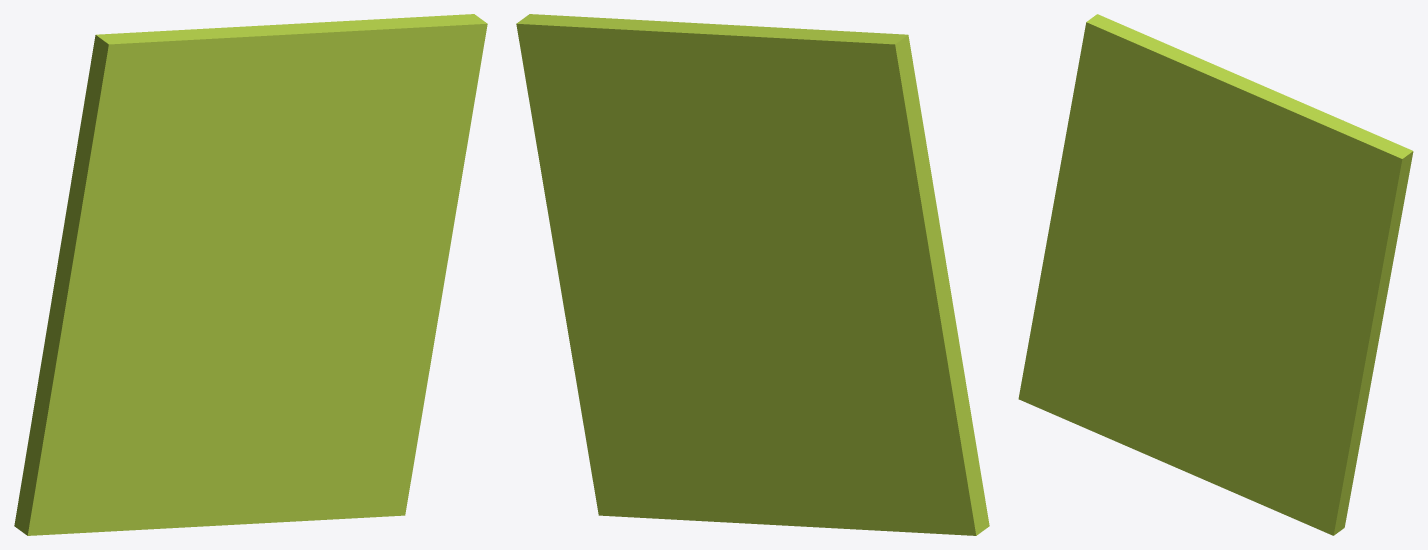
3 views of the same model, side by side, from view 1: azimuth 30°, elevation 25°; view 2: azimuth 150°, elevation 25°; view 3: azimuth 330°, elevation 25° (orthographic). The views are drawn at different scales.
Visible parts, largest first — view 1: osm-way27917482-F0; view 2: osm-way27917482-F0; view 3: osm-way27917482-F0.
Part boxes in pixels (x1,y1,x2,y2): osm-way27917482-F0: (14, 14, 487, 535); osm-way27917482-F0: (516, 14, 989, 535); osm-way27917482-F0: (1018, 14, 1413, 535).
Size of the model in its own units: 2.98 by 3.37 by 0.15.
